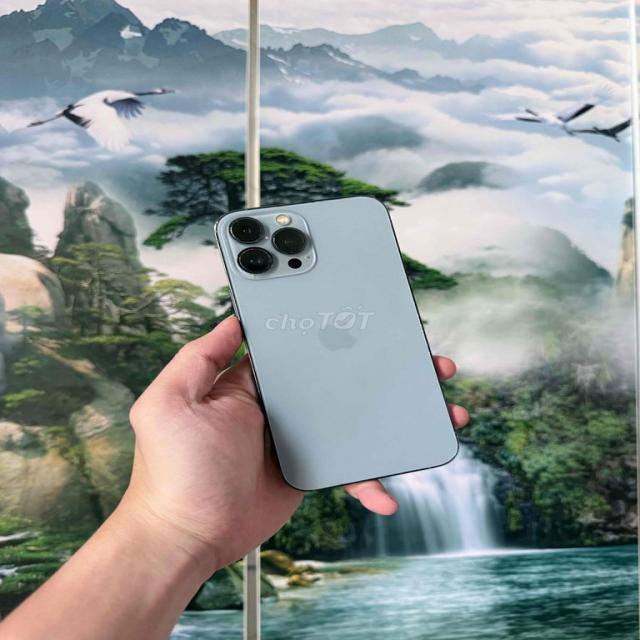gen_12_13: (197, 193, 462, 496)
